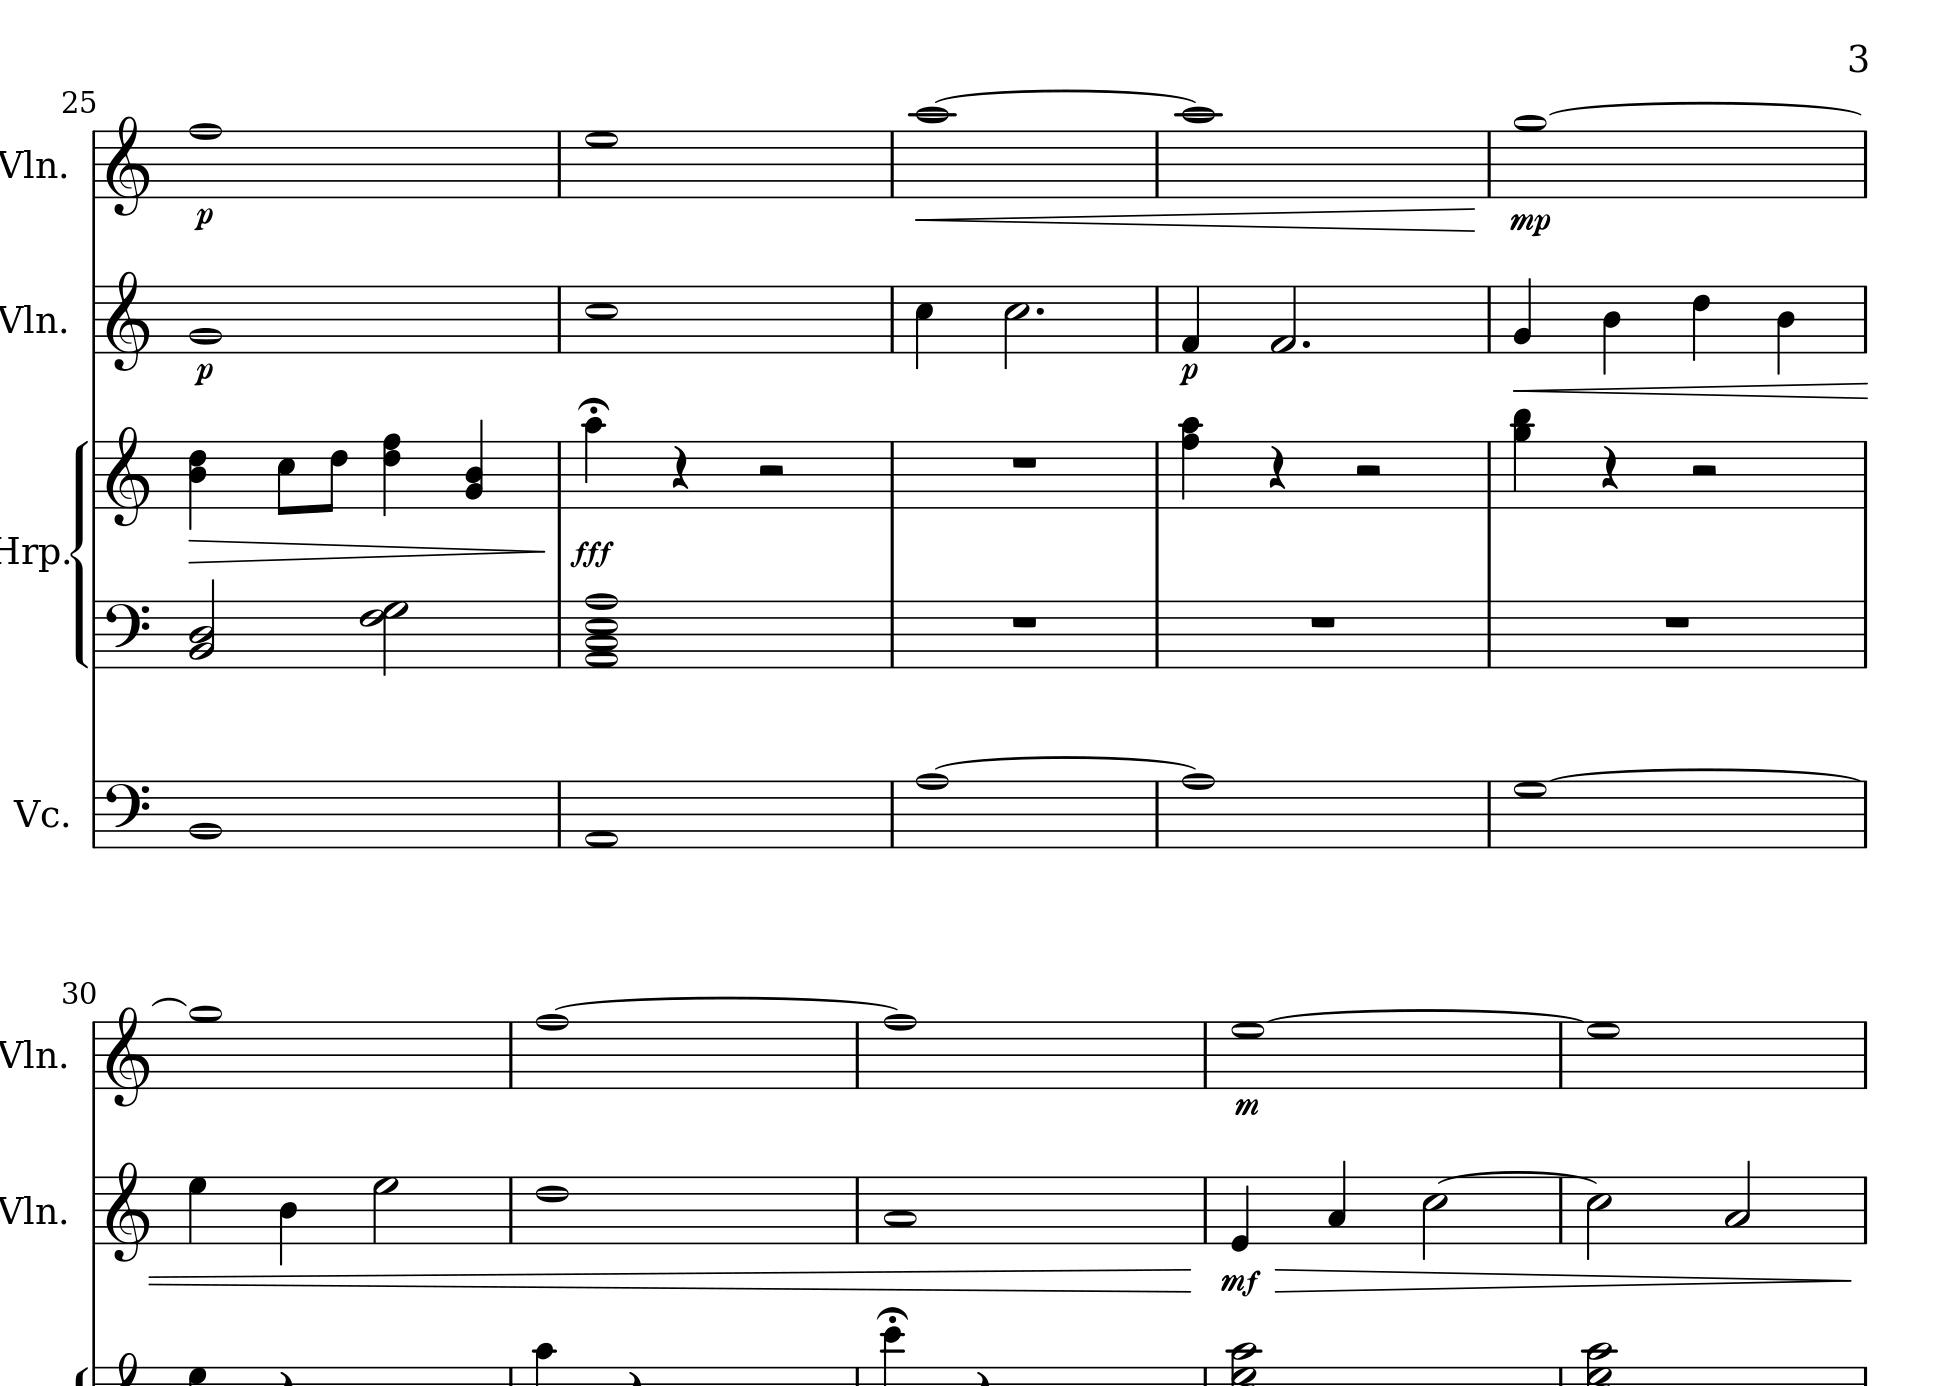0: (79, 978, 96, 1005)
1_1: (583, 777, 619, 852)
1_10: (1179, 103, 1218, 199), (913, 103, 951, 199)
1_2: (187, 777, 223, 850), (189, 283, 223, 355)
1_3: (882, 1173, 916, 1245)
1_4th: (583, 589, 619, 670)
1_5: (583, 283, 618, 355)
1_6: (534, 1174, 570, 1246)
1_7: (583, 127, 619, 201), (1230, 1018, 1266, 1090), (1513, 778, 1548, 850), (1587, 1018, 1621, 1090)
1_8: (913, 769, 949, 850), (880, 1011, 916, 1092), (1180, 771, 1216, 850), (534, 1011, 570, 1090), (189, 121, 222, 199)
1_9: (186, 1006, 223, 1090), (1512, 112, 1548, 199)
2: (58, 88, 79, 115)
2_1: (1269, 283, 1299, 355)
2_3: (1723, 1159, 1753, 1246)
2_5: (1002, 283, 1032, 372), (1420, 1174, 1450, 1261), (1584, 1174, 1614, 1261)
2_7: (370, 1174, 399, 1245)
3: (1848, 40, 1869, 73), (61, 978, 78, 1005)
4_0: (1230, 1173, 1252, 1252)
4_1: (1179, 283, 1203, 354)
4_10: (580, 415, 607, 511)
4_2: (1512, 274, 1536, 355)
4_2_4: (463, 420, 486, 511)
4_3: (1326, 1158, 1348, 1245)
4_4: (1773, 282, 1798, 376), (1600, 283, 1623, 376), (277, 1174, 298, 1264)
4_4_6: (187, 439, 208, 532)
4_5: (913, 283, 934, 373)
4_6: (1690, 283, 1713, 364)
4_6_8: (381, 432, 403, 517)
4_7: (186, 1174, 208, 1245)
4_8_10: (1179, 415, 1204, 510)
4_9_11: (1509, 406, 1536, 511)
5: (79, 85, 97, 115)
8_5: (276, 439, 295, 517)
8_6: (319, 439, 349, 514)
Brace: (69, 436, 90, 666)
Crescendo_hairpin: (916, 208, 1476, 234), (1512, 382, 1872, 400)
Diminuendo_hairpin: (1273, 1267, 1848, 1293), (187, 538, 544, 562)
Fclef: (103, 598, 151, 670), (105, 778, 151, 850)
Fermata_above: (874, 1303, 910, 1324), (576, 396, 612, 415)
Gclef: (103, 268, 150, 372), (105, 424, 150, 526), (105, 112, 148, 217), (105, 1003, 148, 1107), (105, 1159, 148, 1263)
Hrp: (1, 532, 60, 574)
Rests1: (1008, 612, 1041, 631), (1008, 453, 1041, 471), (1308, 612, 1339, 630), (1662, 612, 1693, 630)
Rests2: (1350, 460, 1386, 481), (753, 460, 787, 481), (1687, 460, 1720, 481)
Rests4: (1597, 442, 1623, 492), (1266, 442, 1290, 493), (667, 442, 691, 492)
Single_barline: (1855, 1176, 1875, 1242), (550, 600, 568, 667), (550, 130, 568, 196), (883, 130, 901, 196), (1149, 130, 1167, 196), (550, 285, 568, 351), (883, 286, 901, 352), (550, 441, 568, 507), (550, 780, 568, 846), (502, 1176, 520, 1242), (1149, 286, 1167, 351), (1480, 286, 1498, 351), (1149, 441, 1167, 505), (1552, 1179, 1570, 1243), (85, 130, 102, 198), (87, 439, 103, 507), (85, 780, 102, 847), (1197, 1176, 1213, 1243), (883, 601, 900, 667), (1149, 601, 1165, 667), (883, 780, 900, 846), (1857, 781, 1873, 847), (502, 1021, 519, 1087), (1197, 1021, 1213, 1087), (1857, 1021, 1873, 1087), (849, 1021, 865, 1087), (1552, 1021, 1569, 1087), (849, 1176, 865, 1242), (1482, 441, 1498, 505), (1149, 781, 1165, 846), (883, 442, 900, 505), (87, 285, 102, 352), (1857, 285, 1872, 352), (1857, 600, 1872, 667), (1482, 780, 1497, 847), (87, 1021, 102, 1089), (1482, 130, 1497, 196), (1857, 441, 1872, 507), (1482, 601, 1497, 667), (1858, 130, 1872, 198), (87, 1176, 100, 1243), (88, 601, 102, 667), (1857, 1366, 1873, 1384)
Slur: (150, 994, 187, 1008)
Vc: (10, 790, 67, 826)
Vln: (1, 1032, 58, 1077), (1, 298, 58, 340), (1, 1189, 58, 1231), (1, 144, 58, 184)
dot: (1033, 303, 1047, 318), (1300, 336, 1311, 349)
fff: (568, 537, 616, 570)
mf: (1221, 1266, 1263, 1297)
mp: (1507, 210, 1552, 238), (1233, 1096, 1260, 1116)
p: (192, 361, 214, 387), (1177, 361, 1200, 387), (193, 205, 214, 232)
